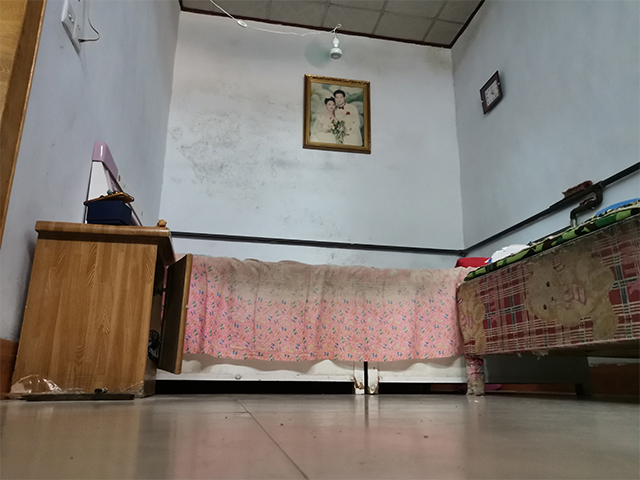bed: (155, 248, 468, 395), (452, 199, 640, 399)
cabinet: (6, 218, 194, 402)
